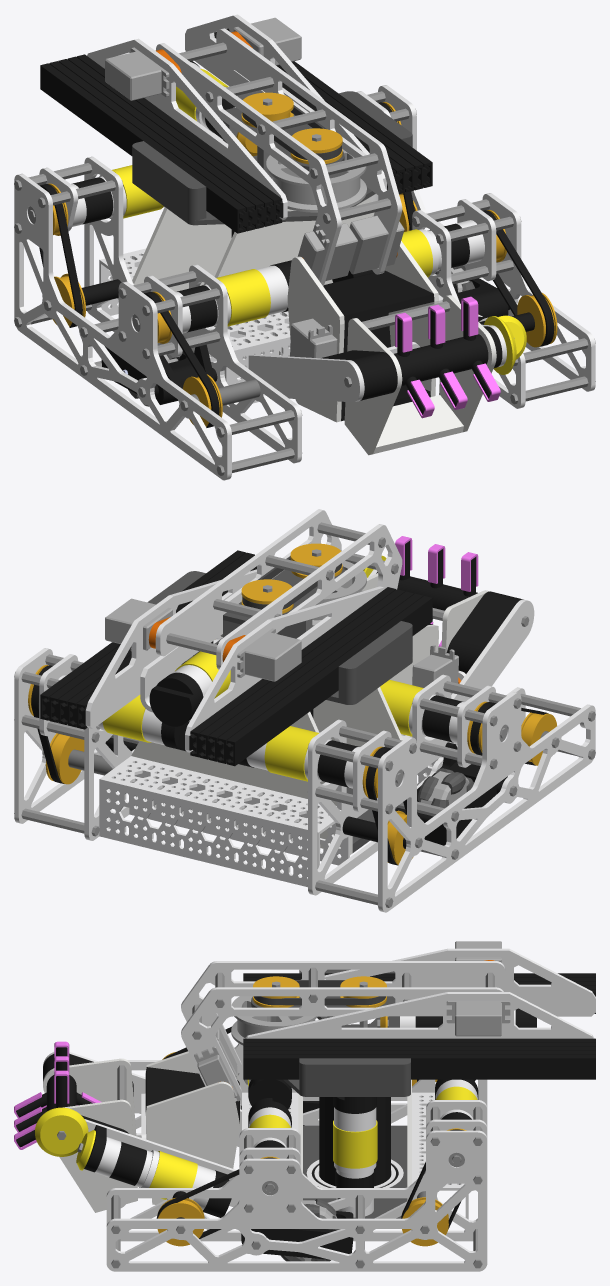
The model's file is God_Turret_Assembly_Updated_FBX.fbx.
The picture shows the model from 3 angles, top to bottom: view 1: azimuth 30°, elevation 25°; view 2: azimuth 150°, elevation 25°; view 3: azimuth 270°, elevation 25°; orthographic projection. The views are drawn at different scales.
Parts seen in each view (by area): view 1: Body1 (×45), Body2 (×9), Body6, Body4 (×2), Body44 (×3), Body3 (×3), Body40 (×2), Body9 (×2), Body13 (×2), Body42, Body11, Body5; view 2: Body1 (×39), Body2 (×9), Body44 (×4), Body6, Body4 (×2), Body43 (×2), Body40 (×2), Body8 (×2), Body15 (×2), Body3 (×2), Body10, Body12 (+4 smaller); view 3: Body1 (×35), Body2 (×5), Body6, Body3 (×3), Body44 (×2), Body43 (×3), Body42 (×2), Body40 (×2), Body39, Body4.
Part boxes in pixels (left/top/right/bottom): Body1 (×45): left=14, top=14, right=595, bottom=480; Body2 (×9): left=39, top=38, right=595, bottom=475; Body6: left=156, top=43, right=341, bottom=286; Body4 (×2): left=132, top=153, right=378, bottom=291; Body44 (×3): left=112, top=165, right=432, bottom=326; Body3 (×3): left=242, top=105, right=516, bottom=374; Body40 (×2): left=72, top=177, right=217, bottom=332; Body9 (×2): left=142, top=216, right=521, bottom=316; Body13 (×2): left=142, top=260, right=513, bottom=359; Body42: left=203, top=265, right=288, bottom=327; Body11: left=38, top=180, right=123, bottom=207; Body5: left=323, top=198, right=391, bottom=223; Body1 (×39): left=14, top=509, right=595, bottom=912; Body2 (×9): left=31, top=579, right=534, bottom=865; Body44 (×4): left=102, top=651, right=423, bottom=781; Body6: left=216, top=524, right=402, bottom=669; Body4 (×2): left=131, top=522, right=385, bottom=854; Body43 (×2): left=149, top=672, right=203, bottom=751; Body40 (×2): left=318, top=695, right=462, bottom=787; Body8 (×2): left=14, top=808, right=393, bottom=907; Body15 (×2): left=14, top=715, right=393, bottom=814; Body3 (×2): left=242, top=555, right=341, bottom=609; Body10: left=412, top=698, right=497, bottom=726; Body12: left=307, top=743, right=393, bottom=771; Body1 (×35): left=16, top=941, right=595, bottom=1271; Body2 (×5): left=43, top=948, right=595, bottom=1170; Body6: left=181, top=961, right=505, bottom=1073; Body3 (×3): left=35, top=980, right=407, bottom=1218; Body44 (×2): left=149, top=1120, right=377, bottom=1199; Body43 (×3): left=203, top=1079, right=376, bottom=1217; Body42 (×2): left=139, top=1107, right=376, bottom=1210; Body40 (×2): left=109, top=1142, right=373, bottom=1199; Body39: left=95, top=1137, right=121, bottom=1177; Body4: left=407, top=1079, right=411, bottom=1200.
Bounding box in the file's own units: 12.92 × 8.45 × 19.48.
